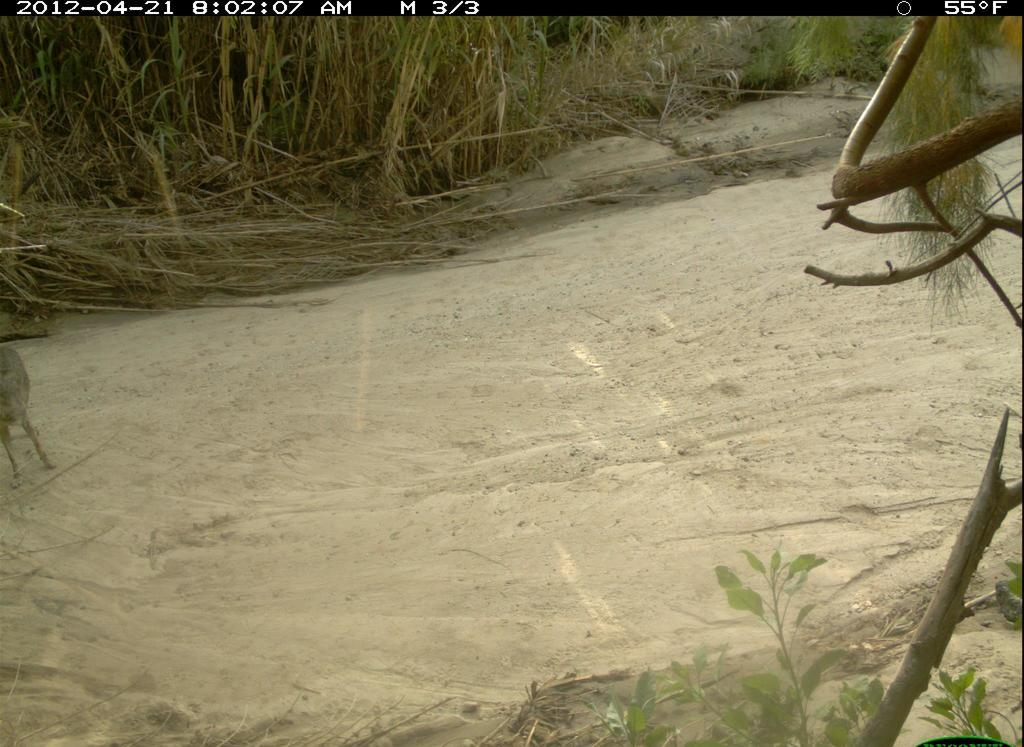coyote: (3, 337, 62, 491)
